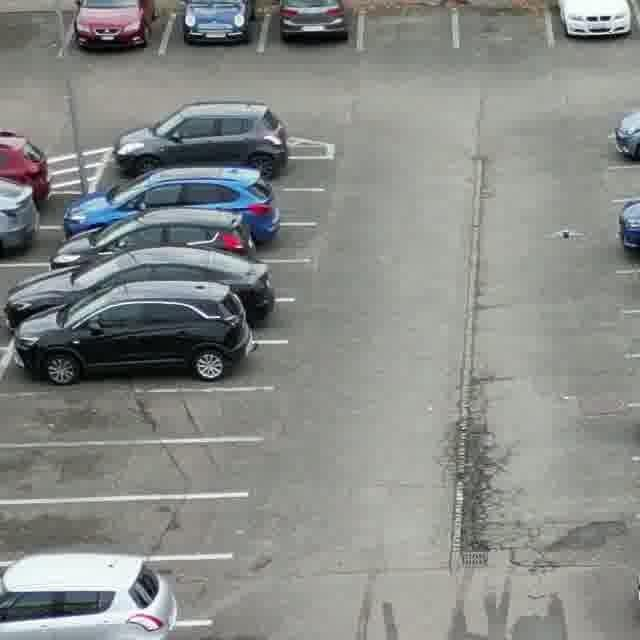Drohne: (546, 228, 584, 238)
